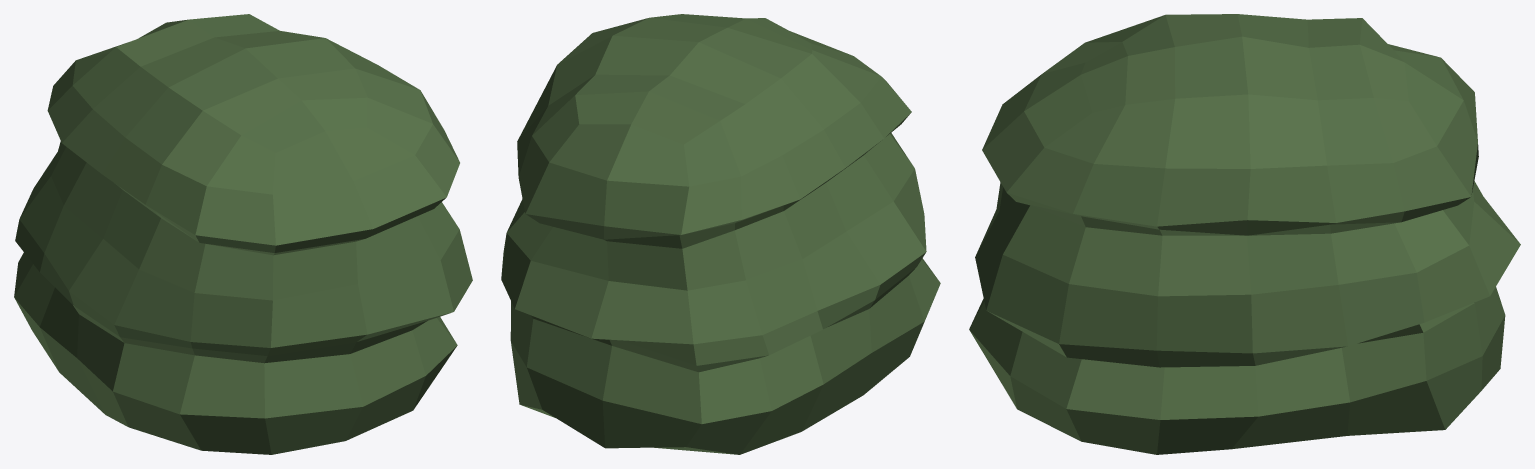
Rendered from bush_1.glb.
The picture shows the model from 3 angles, left to right: view 1: azimuth 30°, elevation 25°; view 2: azimuth 150°, elevation 25°; view 3: azimuth 270°, elevation 25°; orthographic projection. The views are drawn at different scales.
Visible parts, largest first — view 1: bush_1; view 2: bush_1; view 3: bush_1.
Part boxes in pixels (x1,y1,x2,y2): bush_1: [14, 14, 472, 454]; bush_1: [501, 14, 940, 454]; bush_1: [969, 14, 1520, 454].
Size of the model in its own units: 1.33 by 1.24 by 1.69.
1 material, 1 textured.
